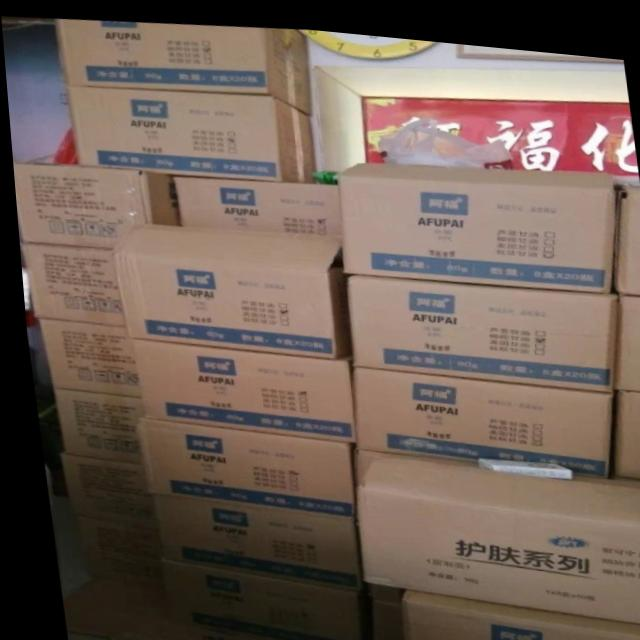box: (344, 446, 640, 612), (331, 153, 613, 281), (106, 218, 345, 350), (342, 269, 610, 381), (344, 358, 608, 465), (59, 83, 319, 177), (54, 18, 314, 110), (122, 334, 347, 437), (138, 417, 344, 514), (148, 490, 352, 584), (154, 561, 363, 640), (391, 583, 640, 640), (10, 162, 176, 247), (173, 169, 336, 229), (32, 316, 131, 395), (19, 243, 117, 322), (43, 387, 136, 459), (57, 574, 156, 640), (66, 510, 151, 585), (53, 451, 142, 522), (606, 165, 640, 283), (601, 376, 640, 466), (606, 284, 640, 379), (156, 621, 286, 640), (357, 580, 395, 640), (342, 440, 371, 478)
